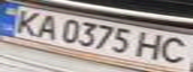0: (54, 16, 81, 45)
3: (75, 19, 100, 48)
5: (112, 25, 139, 56)
7: (93, 21, 115, 52)
A: (30, 12, 63, 41)
C: (154, 34, 193, 65)
H: (133, 29, 169, 61)
K: (6, 7, 45, 36)
